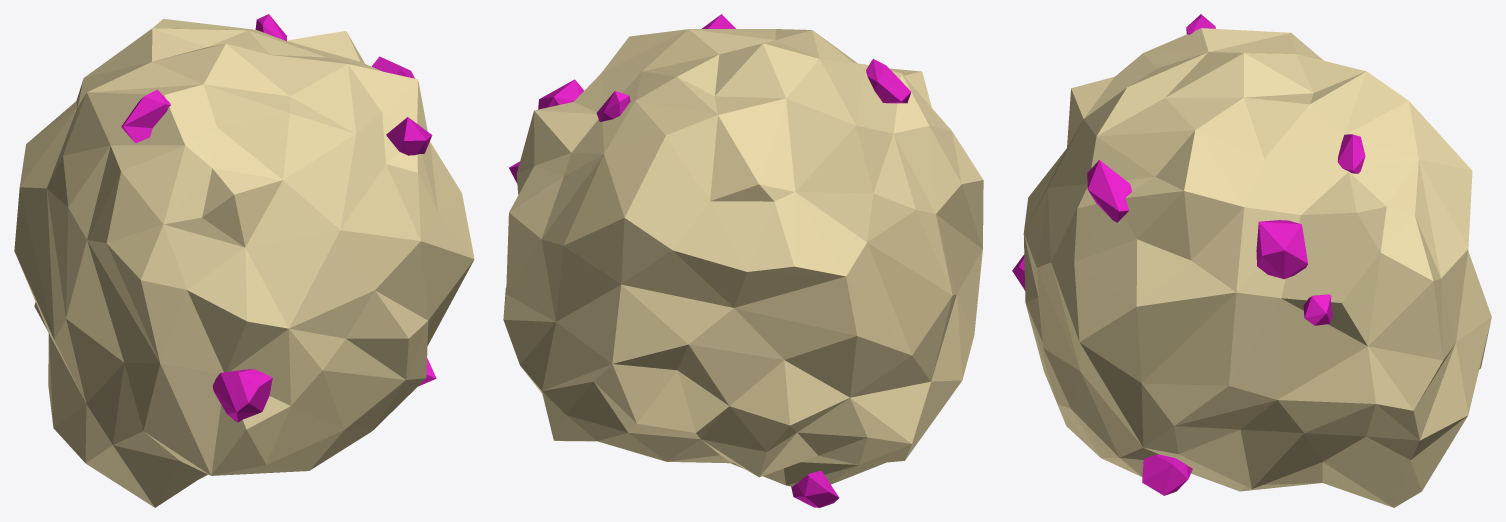
Rendered from CrystalOre (58).fbx.
3 renders of one model, left to right at view 1: azimuth 30°, elevation 25°; view 2: azimuth 150°, elevation 25°; view 3: azimuth 270°, elevation 25°, orthographic. The views are drawn at different scales.
Visible parts, largest first — view 1: Asteroid278; view 2: Asteroid278; view 3: Asteroid278.
Part boxes in pixels (x1,y1,x2,y2): Asteroid278: [14, 14, 474, 507]; Asteroid278: [503, 14, 983, 507]; Asteroid278: [1012, 14, 1491, 507].
Bounding box in the file's own units: 555 × 598 × 573.
